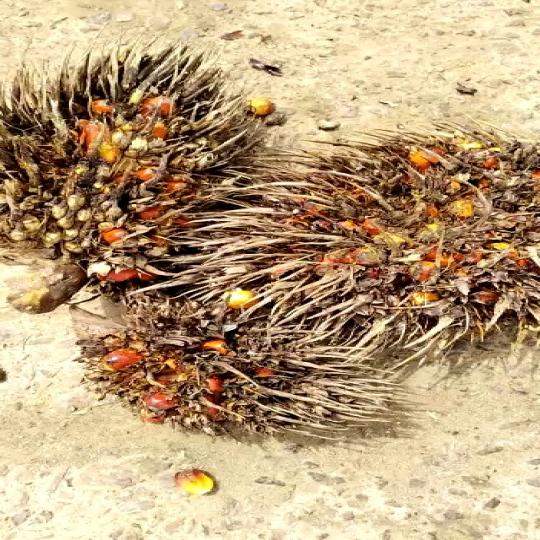terlalu masak: (221, 127, 540, 341), (0, 71, 246, 306), (69, 292, 392, 442)
